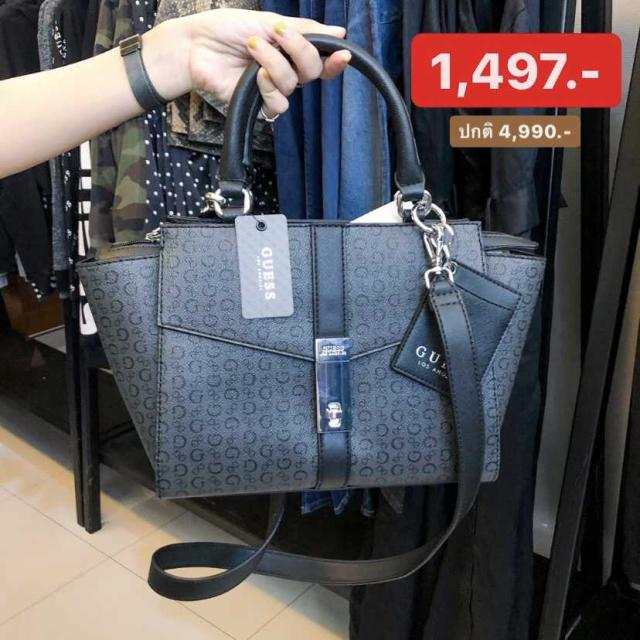Handbag: (73, 186, 550, 506)
